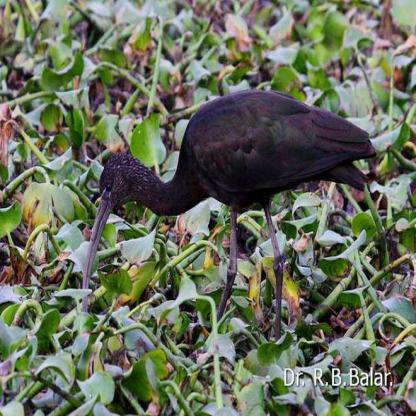Burung: (79, 88, 376, 348)
